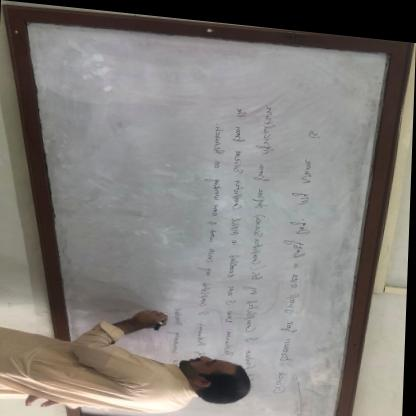Handwritten text: (256, 111, 336, 391), (233, 94, 284, 369), (185, 110, 228, 346), (219, 97, 252, 353), (164, 303, 190, 356)
Lecturer: (0, 303, 262, 416)
Whiteboard: (0, 17, 396, 416)
